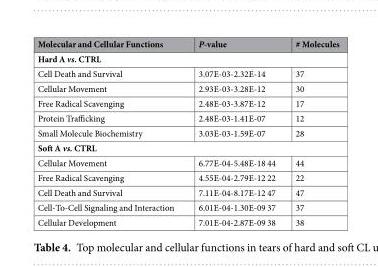table: (36, 37, 338, 227)
table column: (36, 37, 185, 227), (185, 37, 284, 227), (284, 37, 338, 227)
table column header: (36, 37, 338, 50)
table projected row header: (36, 50, 338, 65), (36, 139, 338, 154)
table row: (36, 50, 338, 65), (36, 65, 338, 80), (36, 80, 338, 95), (36, 95, 338, 110), (36, 110, 338, 125), (36, 139, 338, 154), (36, 154, 338, 169), (36, 169, 338, 184), (36, 184, 338, 199), (36, 199, 338, 214), (36, 125, 338, 139), (36, 37, 338, 50), (36, 214, 338, 227)
